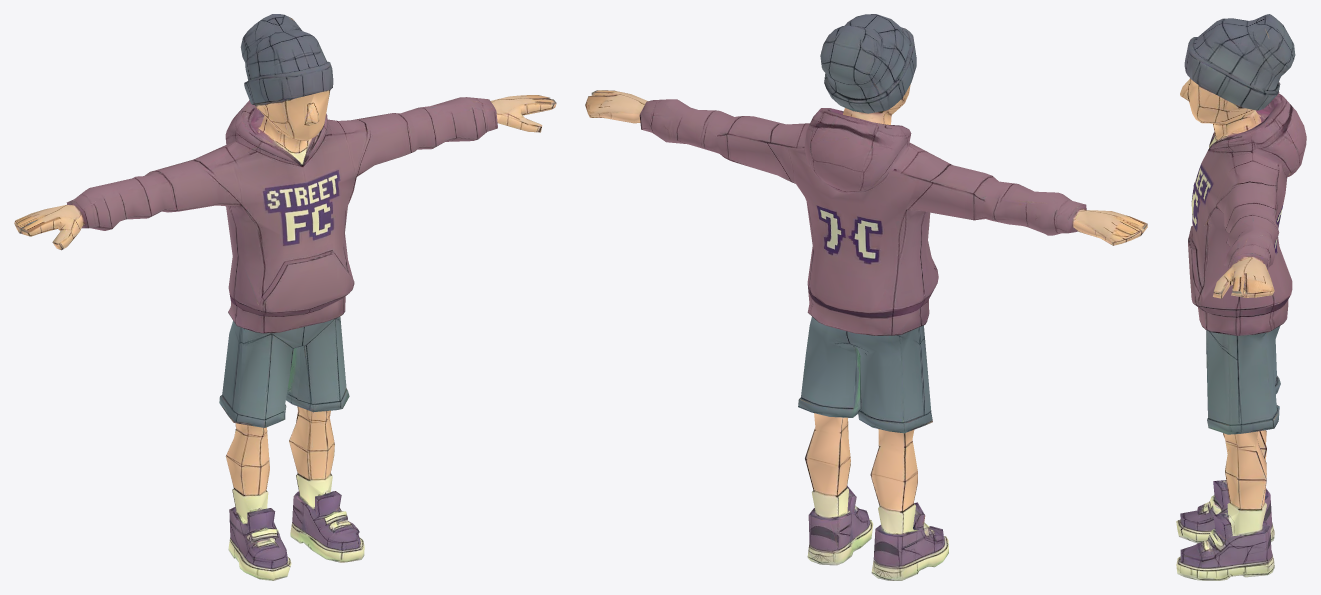
File: player.glb
The picture shows the model from 3 angles, left to right: view 1: azimuth 30°, elevation 25°; view 2: azimuth 150°, elevation 25°; view 3: azimuth 270°, elevation 25°; orthographic projection. The views are drawn at different scales.
Parts seen in each view (by area): view 1: Mesh1.0; view 2: Mesh1.0; view 3: Mesh1.0.
Boxes of the visible parts, box(x1,y1,x2,y2) form: Mesh1.0: box(14, 14, 556, 580); Mesh1.0: box(585, 14, 1147, 580); Mesh1.0: box(1176, 14, 1306, 580).
Size of the model in its own units: 1.91 by 1.79 by 0.3951.
1 material, 1 textured.
